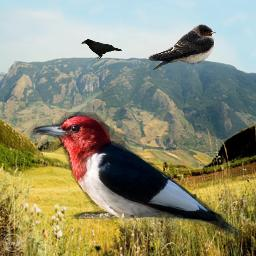Crow: (80, 38, 122, 59)
Swallow: (148, 24, 216, 71)
Woodpecker: (28, 112, 244, 242)
